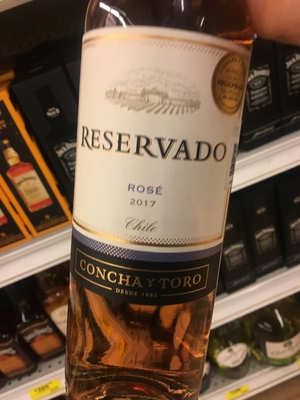reservado rose: (72, 3, 252, 400)
